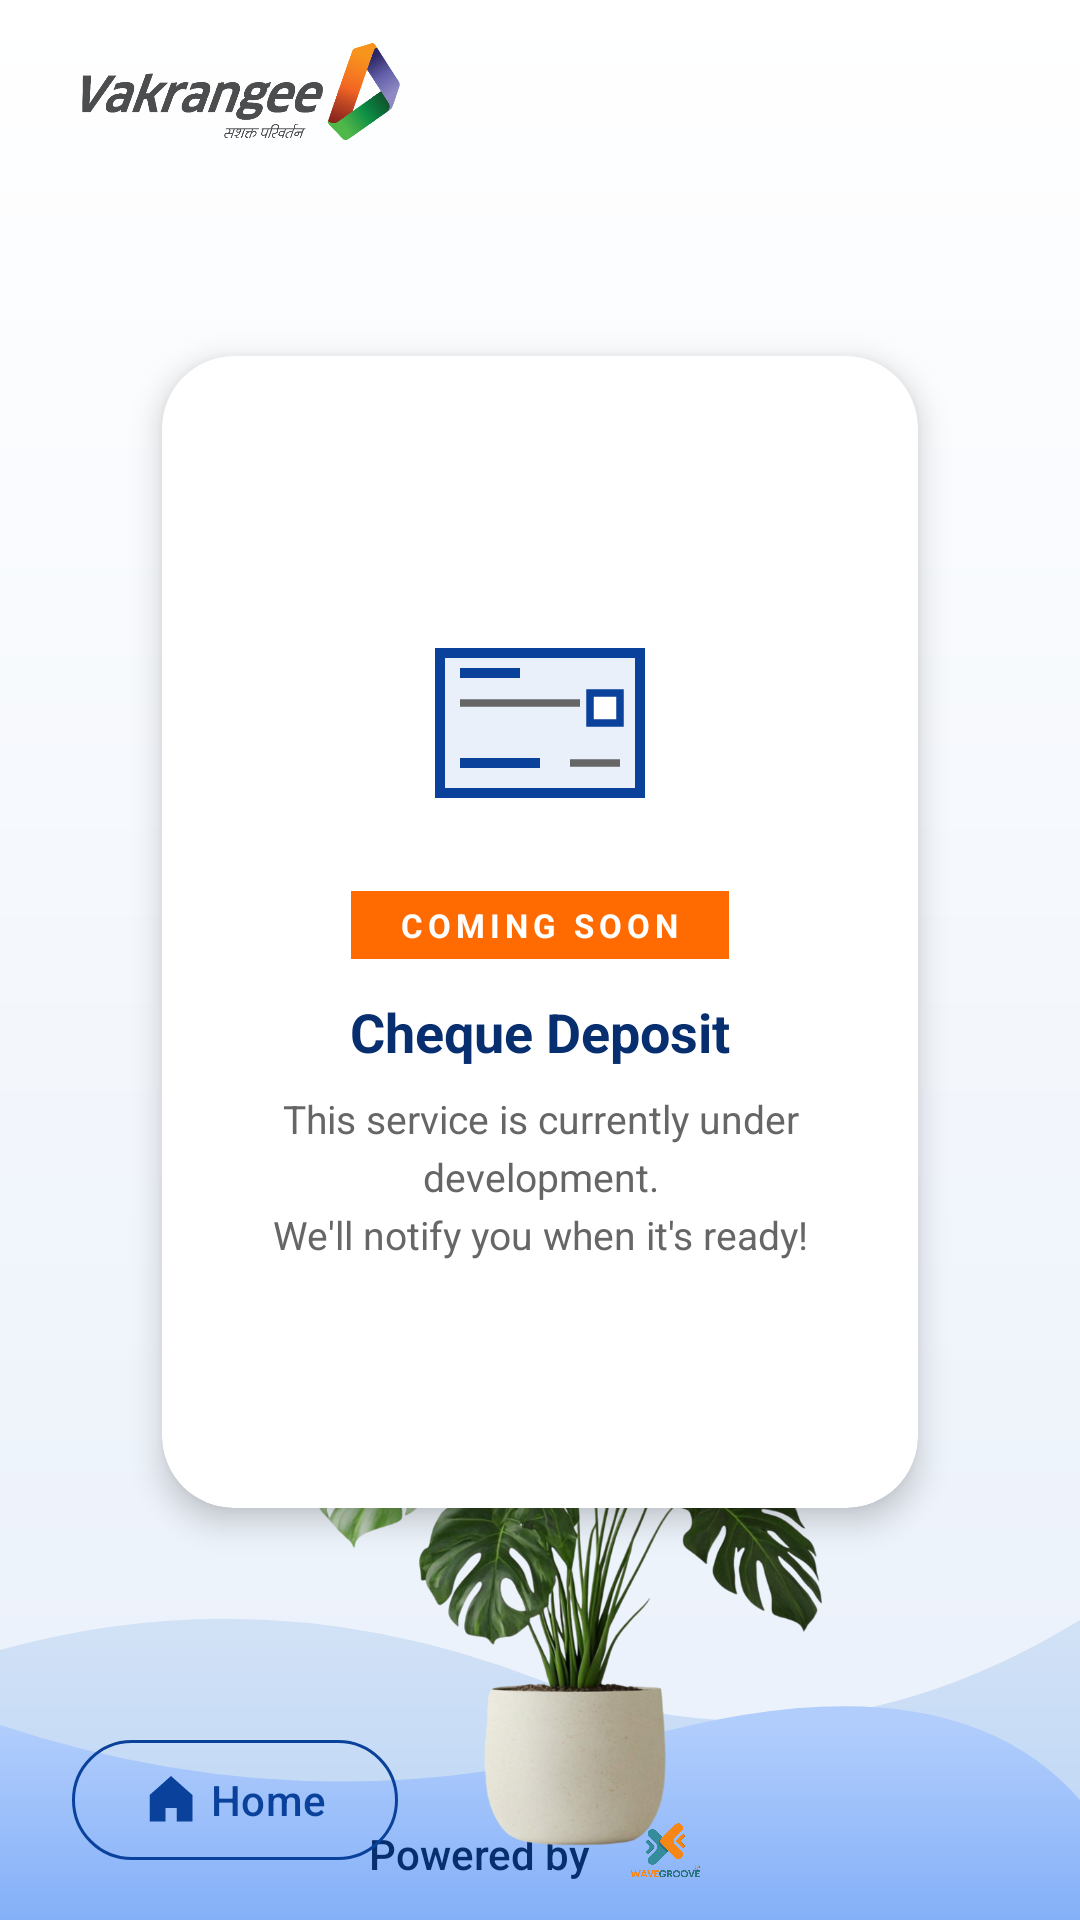

Where icons sit on this 1080 x 1920 app screen, as (x1, y1, x2, y2):
Cheque Deposit Icon: (435, 648, 645, 798)
